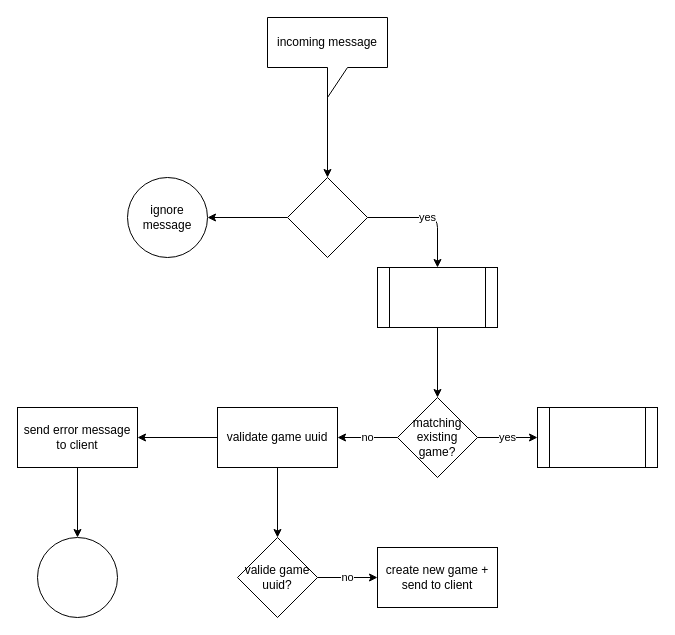
Image size: 675x635. Some labels were removed from this diagram. The centre of each missing label's shape, as x and y in pixels:
end: point 77,577
has game_uuid?: point 327,217
lookup game uuid: point 437,297
retrieve game information + send to client: point 597,437
